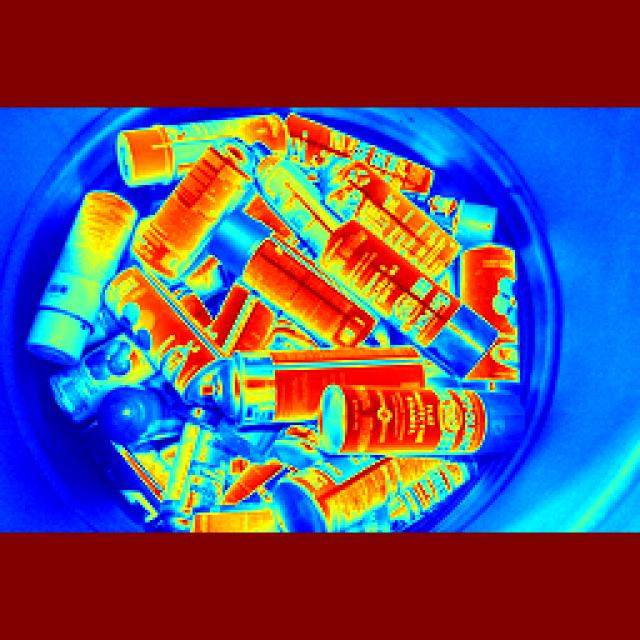Aerosol Cans: (319, 214, 495, 372), (324, 385, 530, 463), (89, 119, 293, 188)
